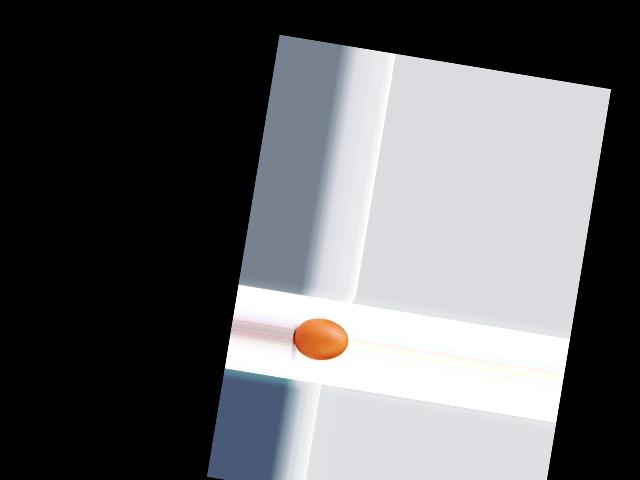egg: (290, 314, 350, 364)
